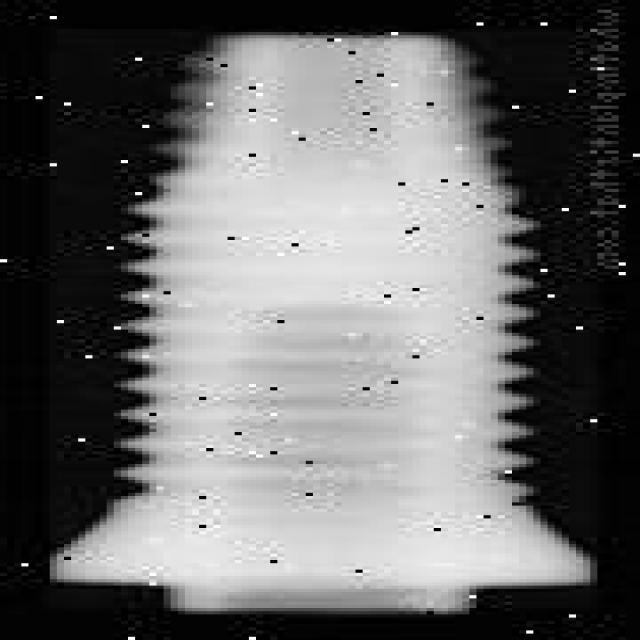Retained root: (50, 29, 597, 608)
